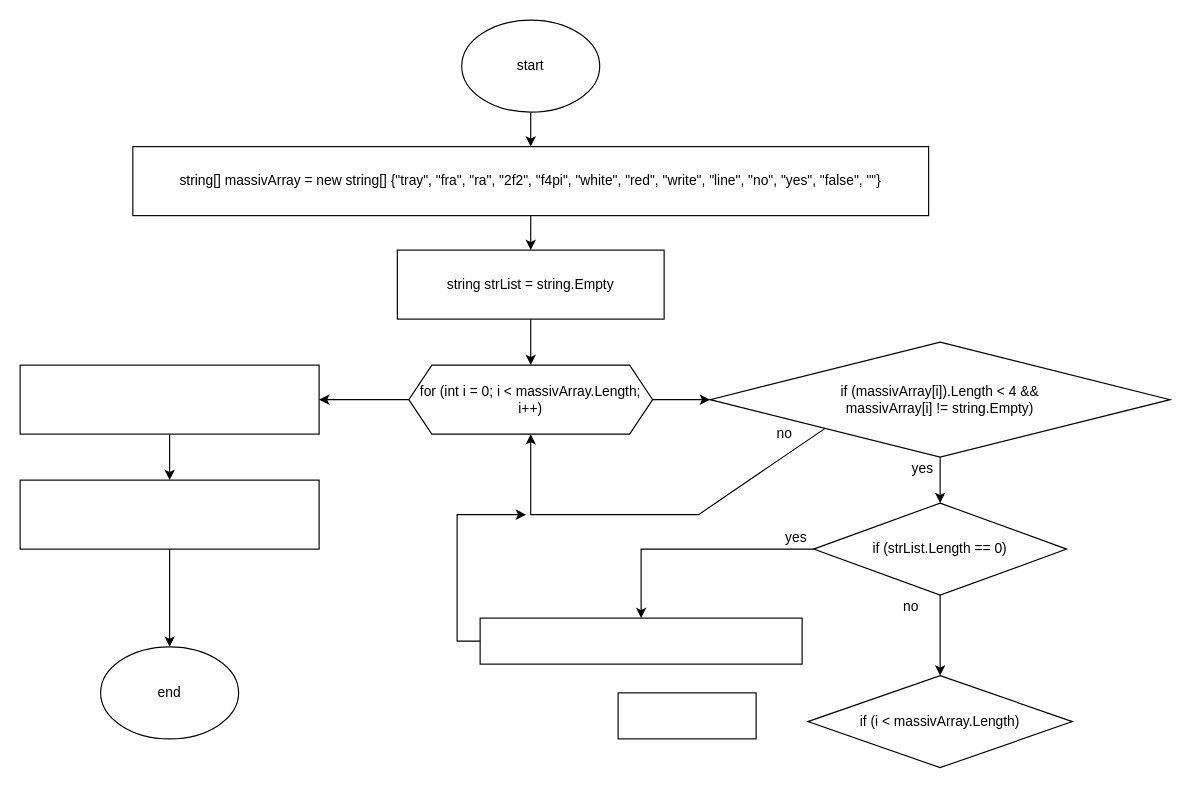
This 1190x788 diagram has some shape labels left out. The centre of each missing label's shape, as x and y in pixels:
arrayList = strList.Split("\n"): (169,514)
string[] arrayList = new string[strList.Length]: (169,399)
strList += "\n": (686,715)
strList += Convert.ToString(massivArray[i]): (640,640)
